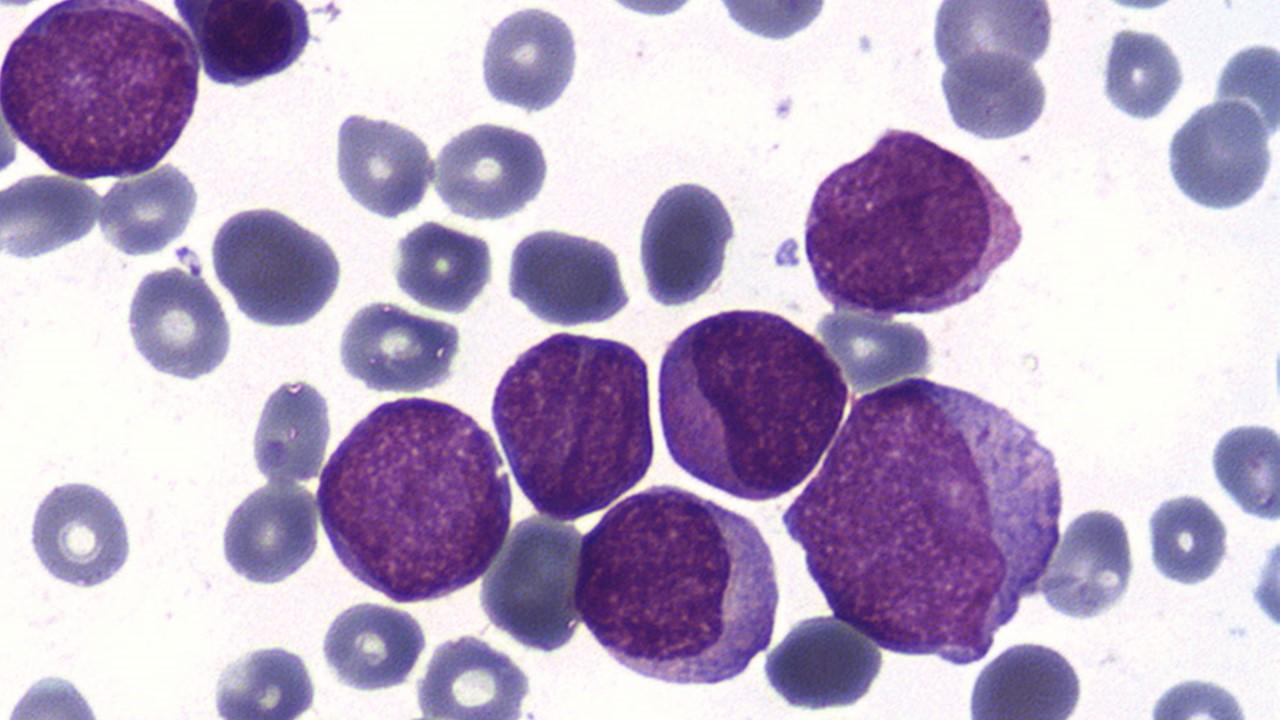Platelets: (770, 234, 803, 274), (771, 92, 799, 124)
RBC: (924, 2, 1061, 142), (207, 200, 347, 332), (474, 509, 590, 654), (124, 246, 236, 386), (635, 170, 741, 310), (1162, 93, 1278, 217), (757, 608, 892, 714), (502, 224, 633, 331), (23, 471, 136, 592), (1037, 499, 1139, 626), (430, 119, 554, 221), (330, 104, 437, 220), (335, 300, 462, 397), (215, 476, 324, 588), (476, 2, 580, 117), (317, 594, 430, 696), (410, 628, 538, 716), (96, 158, 203, 260), (962, 634, 1094, 716), (390, 217, 494, 317), (248, 374, 335, 487), (208, 638, 321, 720), (1097, 22, 1185, 126), (1144, 490, 1230, 589), (1207, 416, 1280, 522), (706, 1, 842, 44), (1136, 674, 1264, 717), (0, 671, 112, 717), (1250, 516, 1280, 642), (1102, 0, 1178, 14)
WBC: (782, 364, 1080, 690), (795, 117, 1030, 322), (571, 478, 785, 696), (309, 386, 515, 608), (645, 298, 855, 500), (0, 0, 207, 183), (484, 323, 658, 525), (165, 1, 325, 92), (1207, 414, 1279, 524)
